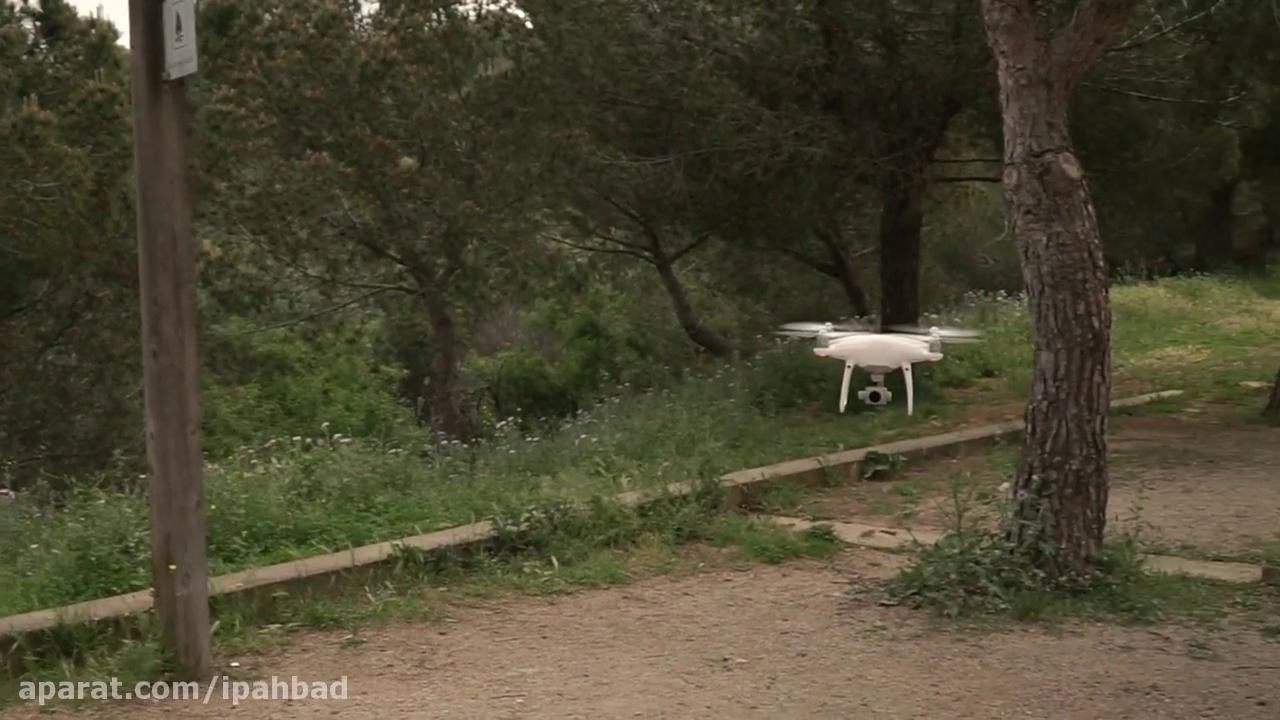drone: (768, 317, 982, 416)
